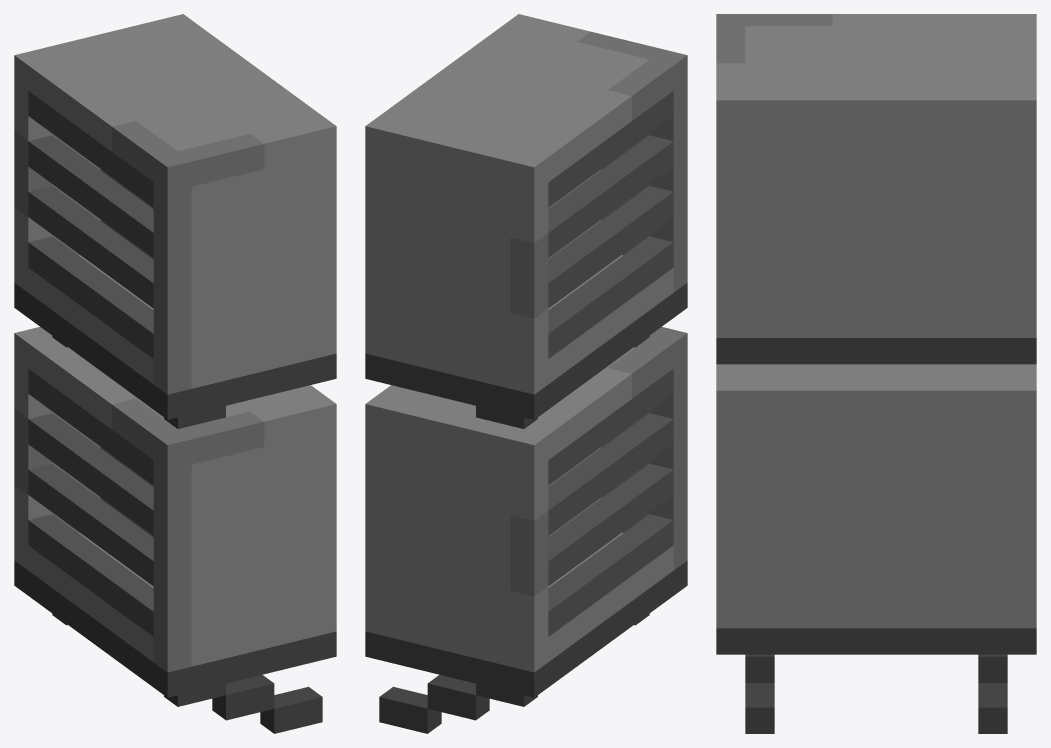
Rendered from condenserUnitTypeB.glb.
3 views of the same model, side by side, from view 1: azimuth 30°, elevation 25°; view 2: azimuth 150°, elevation 25°; view 3: azimuth 270°, elevation 25° (orthographic). The views are drawn at different scales.
Visible parts, largest first — view 1: ObjObject; view 2: ObjObject; view 3: ObjObject.
Part boxes in pixels (x1,y1,x2,y2): ObjObject: [14, 14, 336, 733]; ObjObject: [365, 14, 687, 733]; ObjObject: [716, 14, 1036, 733].
Bounding box in the file's own units: 0.7 × 2.4 × 1.1.
Materials: 1 (1 with a texture image).
